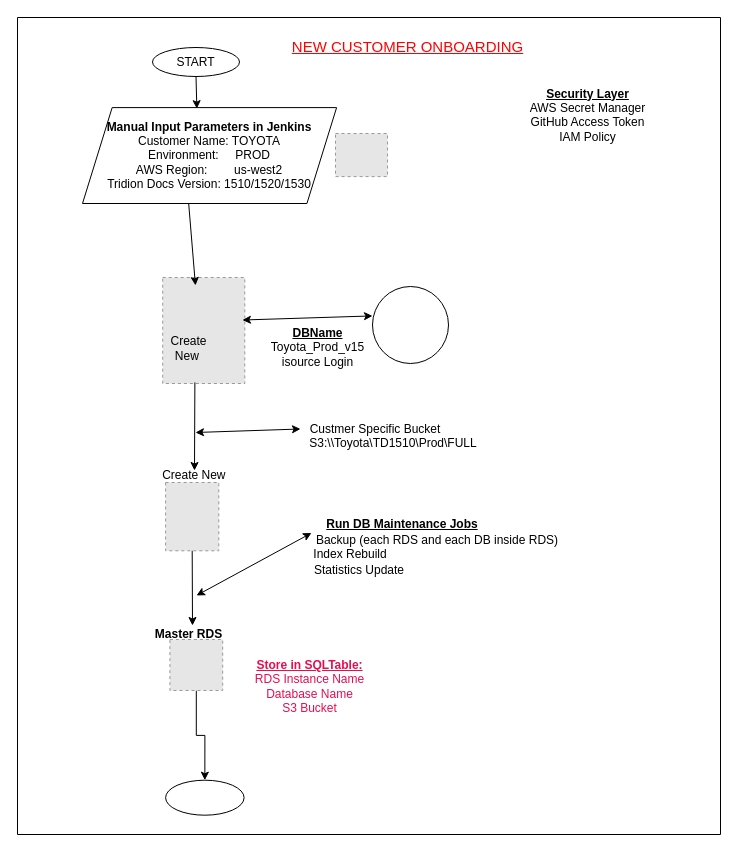
Image size: 738x852. Some labels were removed from this diagram. Grey dashed boxes stand in for pictures. The centre of each missing label's shape, as x and y in pixels:
"END" belongs at point 204,797.
"Restore TemplateDB (Stored in S3)" belongs at point 410,325.
